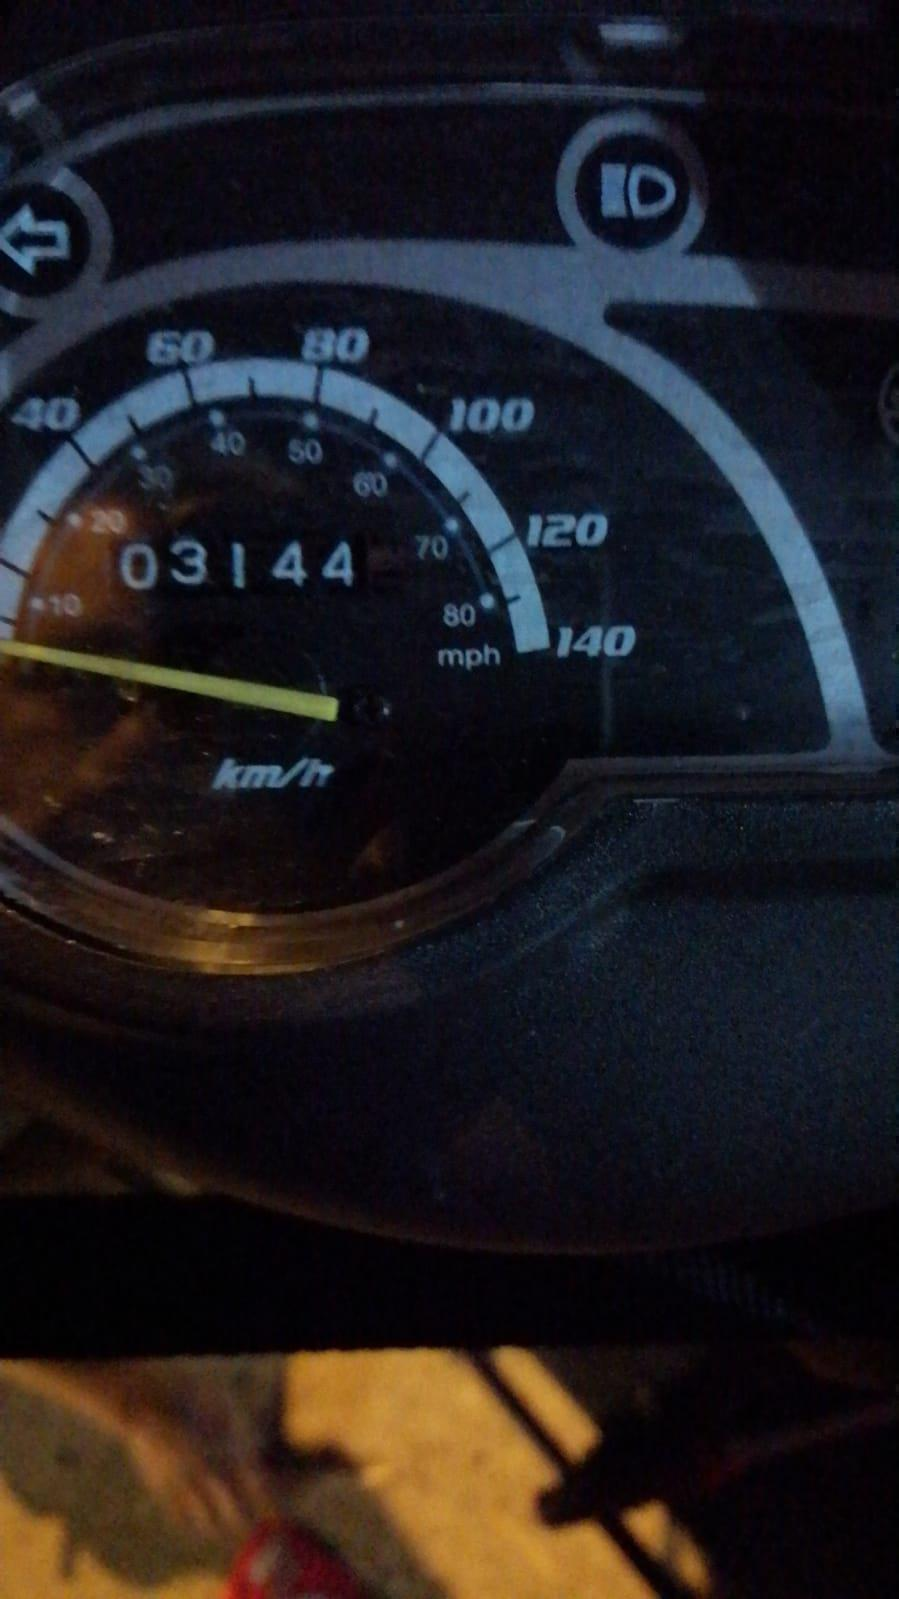0: (116, 539, 162, 592)
1: (228, 536, 252, 597)
3: (166, 534, 211, 588)
4: (269, 536, 310, 588), (321, 538, 359, 589)
odometer: (105, 530, 385, 610)
